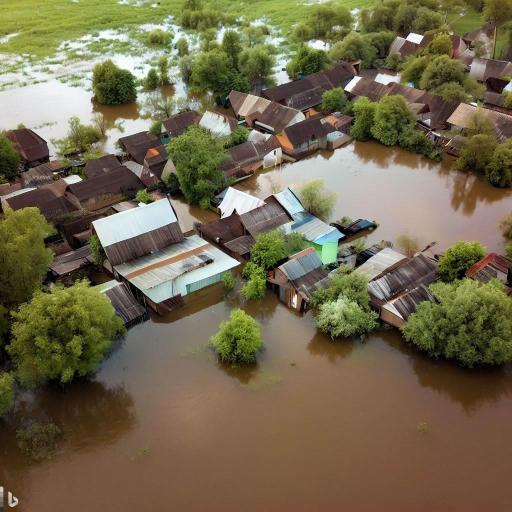flood: (0, 276, 512, 512), (236, 140, 512, 254), (0, 80, 150, 153), (0, 29, 164, 91), (169, 193, 220, 233)
house: (113, 234, 242, 309), (93, 196, 183, 276), (363, 250, 443, 326), (62, 154, 140, 214), (268, 245, 332, 315), (224, 185, 306, 238), (221, 87, 307, 137), (267, 64, 350, 110), (1, 181, 69, 227), (447, 99, 512, 139), (6, 124, 56, 174), (292, 220, 342, 268), (214, 140, 265, 182), (344, 68, 398, 106), (280, 118, 328, 158), (117, 128, 166, 166), (466, 250, 512, 280), (483, 56, 512, 91)
